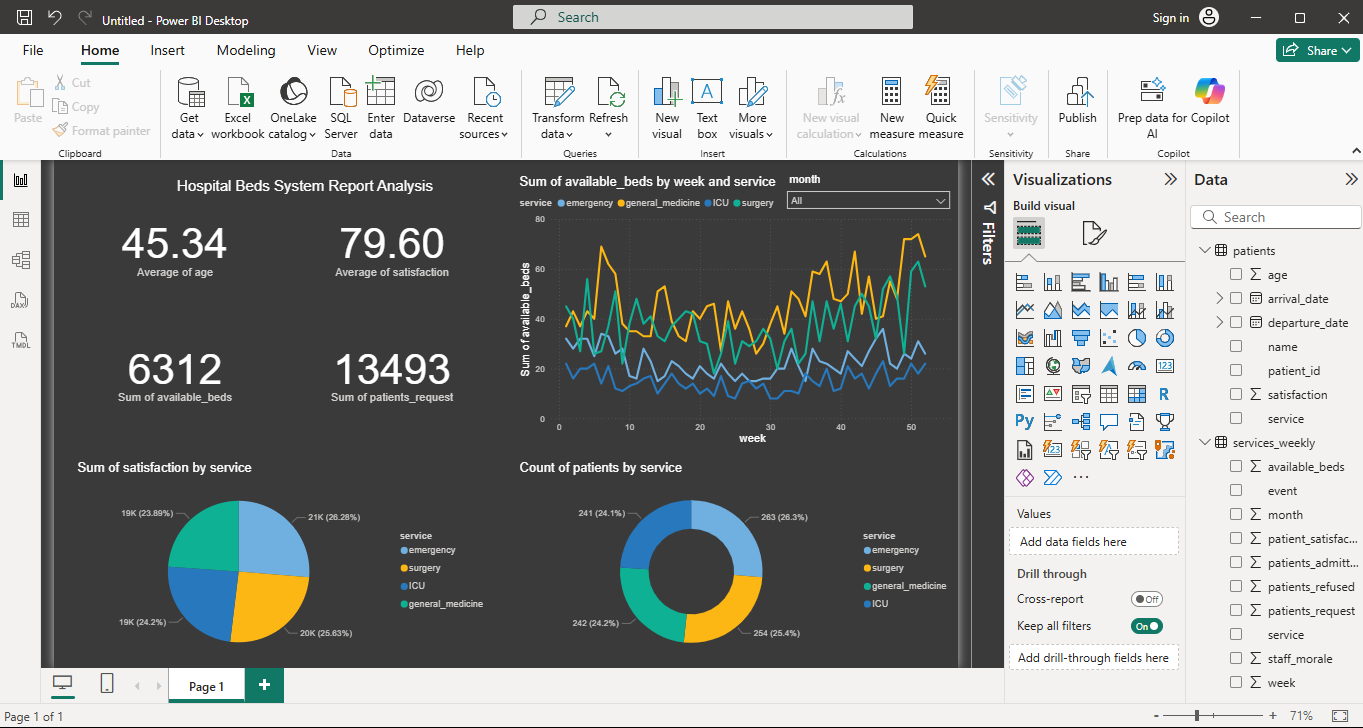

The dashboard page shown, as its layout file describes it:
{"tool":"powerbi","page":{"name":"Page 1","canvas":[1280,720],"ordinal":0},"visuals":[{"type":"pieChart","fields":{"Category":["patients.service"],"Y":["Sum(patients.satisfaction)"]},"box":[28.8,424.8,594.7,295.2],"z":0},{"type":"donutChart","fields":{"Category":["patients.service"],"Y":["Count(patients)"]},"box":[655.2,424.8,625,295.2],"z":1000},{"type":"lineChart","fields":{"Series":["services_weekly.service"],"Category":["services_weekly.week"],"Y":["Sum(services_weekly.available_beds)"]},"box":[655.2,20.2,625,388.8],"z":2000},{"type":"card","fields":{"Values":["Avg(patients.age)"]},"box":[28.3,90.7,287.7,96.4],"z":3000},{"type":"card","fields":{"Values":["Avg(patients.satisfaction)"]},"box":[334.5,90.7,289.1,96.4],"z":4000},{"type":"card","fields":{"Values":["Sum(services_weekly.available_beds)"]},"box":[28.3,243.8,287.7,141.7],"z":5000},{"type":"card","fields":{"Values":["Sum(services_weekly.patients_request)"]},"box":[334.5,243.8,289.1,141.7],"z":6000},{"type":"textbox","box":[208.3,19.8,432.3,45.4],"z":7000},{"type":"slicer","fields":{"Values":["services_weekly.month"]},"box":[1029,14.2,250.9,55.3],"z":8000}]}

Visuals, with their boxes on the page's 1280x720 design canvas (x1, y1, x2, y2). These are canvas units, not pixel positions in the 1363x728 screenshot, which may show the page scaled, cropped or inside an application window:
pieChart - patients.service x Sum(patients.satisfaction): (x1=29, y1=425, x2=624, y2=720)
donutChart - patients.service x Count(patients): (x1=655, y1=425, x2=1280, y2=720)
lineChart - services_weekly.service x services_weekly.week: (x1=655, y1=20, x2=1280, y2=409)
card - Avg(patients.age): (x1=28, y1=91, x2=316, y2=187)
card - Avg(patients.satisfaction): (x1=334, y1=91, x2=624, y2=187)
card - Sum(services_weekly.available_beds): (x1=28, y1=244, x2=316, y2=386)
card - Sum(services_weekly.patients_request): (x1=334, y1=244, x2=624, y2=386)
textbox: (x1=208, y1=20, x2=641, y2=65)
slicer - services_weekly.month: (x1=1029, y1=14, x2=1280, y2=70)
